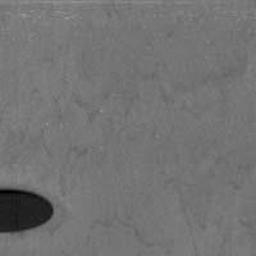Punching: (0, 189, 55, 233)
